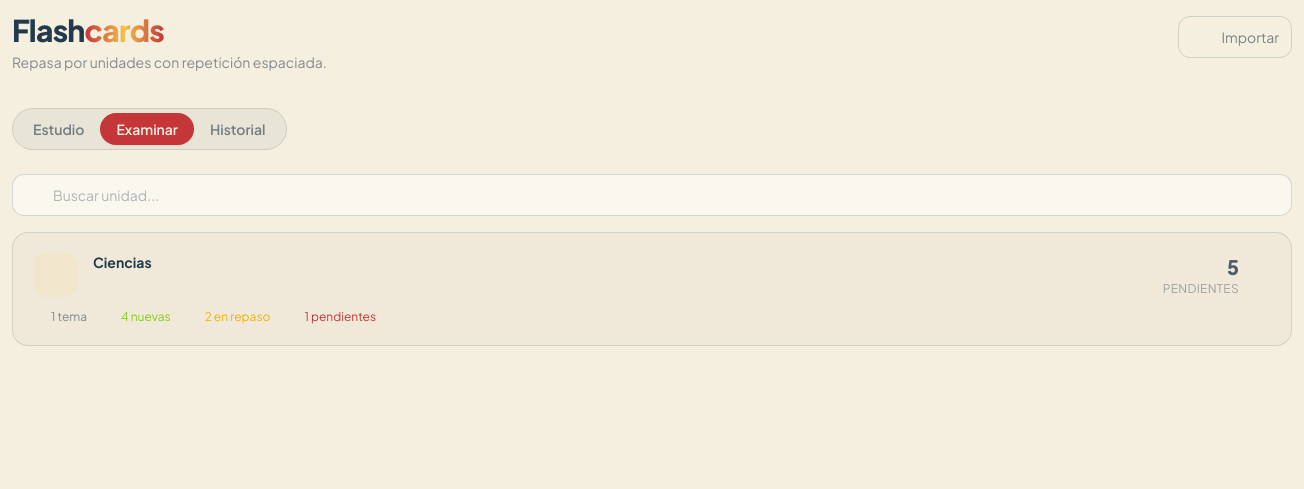
Test: FlashcardsPage › shows unit list when syllabus and subject is selected
Click the text "Ciencias" at coordinates (122, 263), box [93,253,152,272]
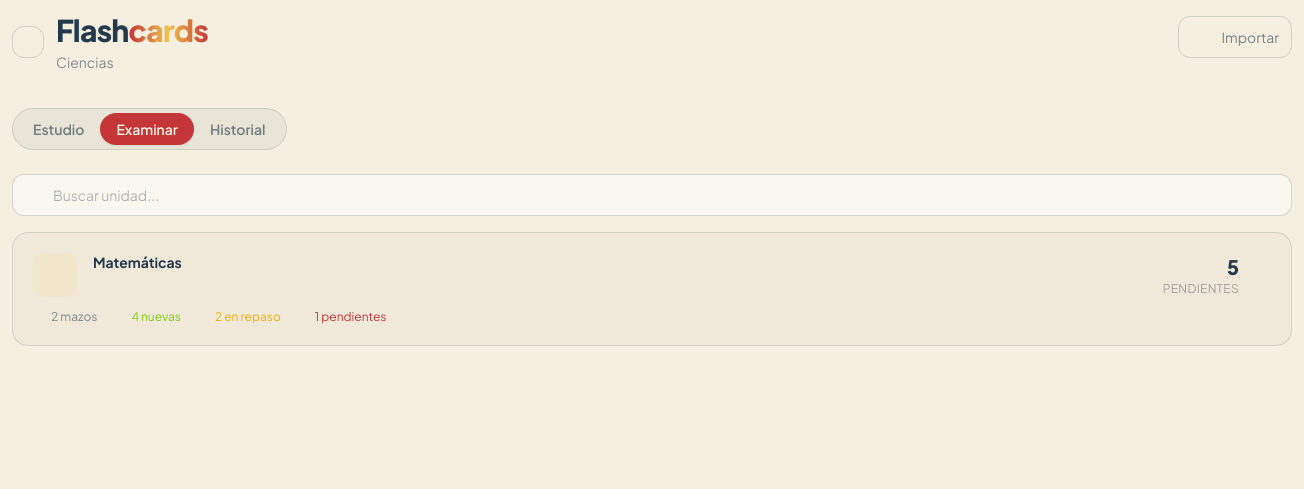
Now the text "Matemáticas" is shown
Note: Click on the subject button
Click the text "Matemáticas" at coordinates (137, 263), box [93,253,182,272]
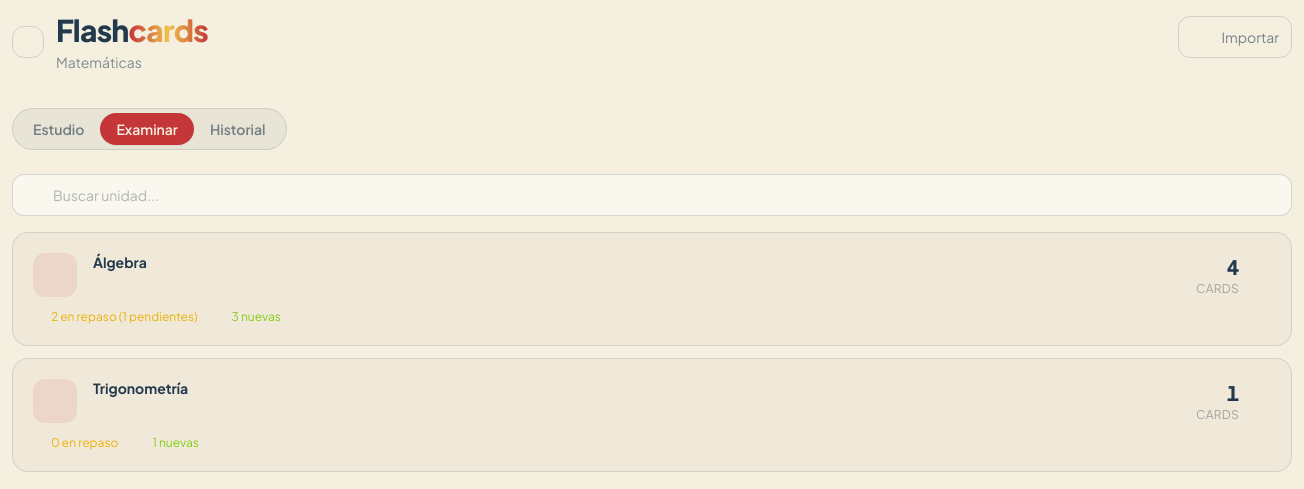
Now the text "Álgebra" is shown, box [93,253,147,272]
